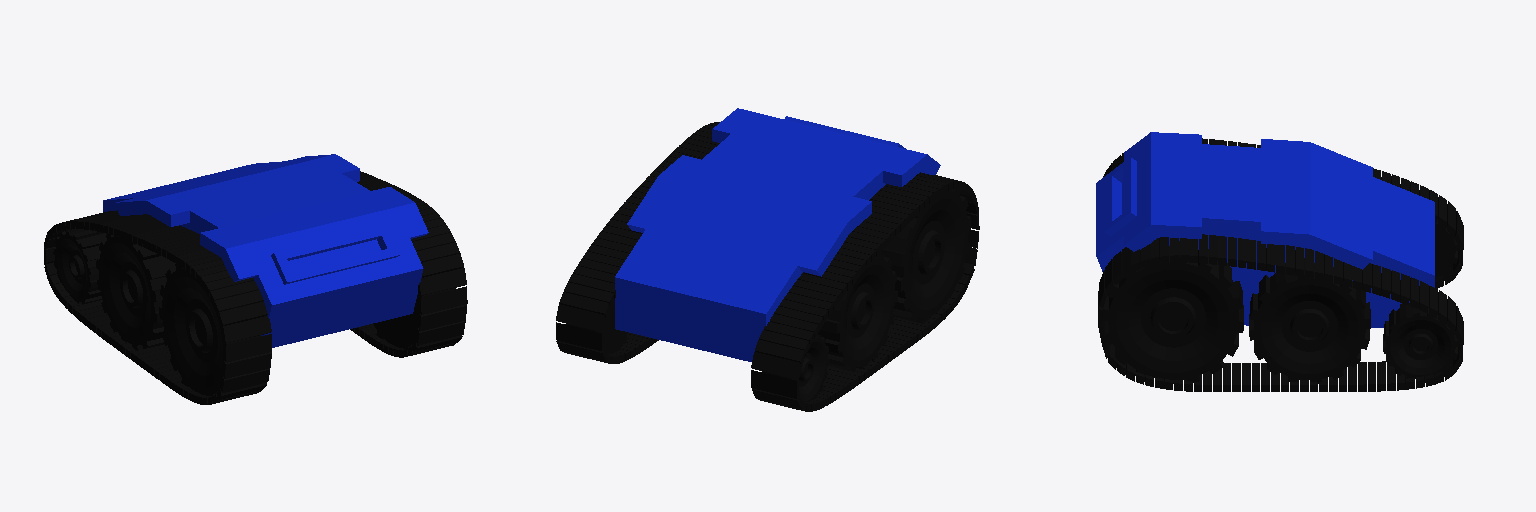
File: Tank.obj
3 views of the same model, side by side, from view 1: azimuth 30°, elevation 25°; view 2: azimuth 150°, elevation 25°; view 3: azimuth 270°, elevation 25° (orthographic).
Visible parts, largest first — view 1: Корпус, Траки, Катки; view 2: Корпус, Траки, Катки; view 3: Корпус, Катки, Траки.
Part boxes in pixels (x1,y1,x2,y2): Корпус: (103,154,428,347); Траки: (44,171,467,404); Катки: (53,229,455,395); Корпус: (615,108,940,361); Траки: (556,122,979,411); Катки: (566,189,971,401); Корпус: (1096,132,1434,327); Катки: (1102,220,1458,384); Траки: (1098,138,1463,391).
Size of the model in its own units: 2.23 by 1.37 by 2.94.